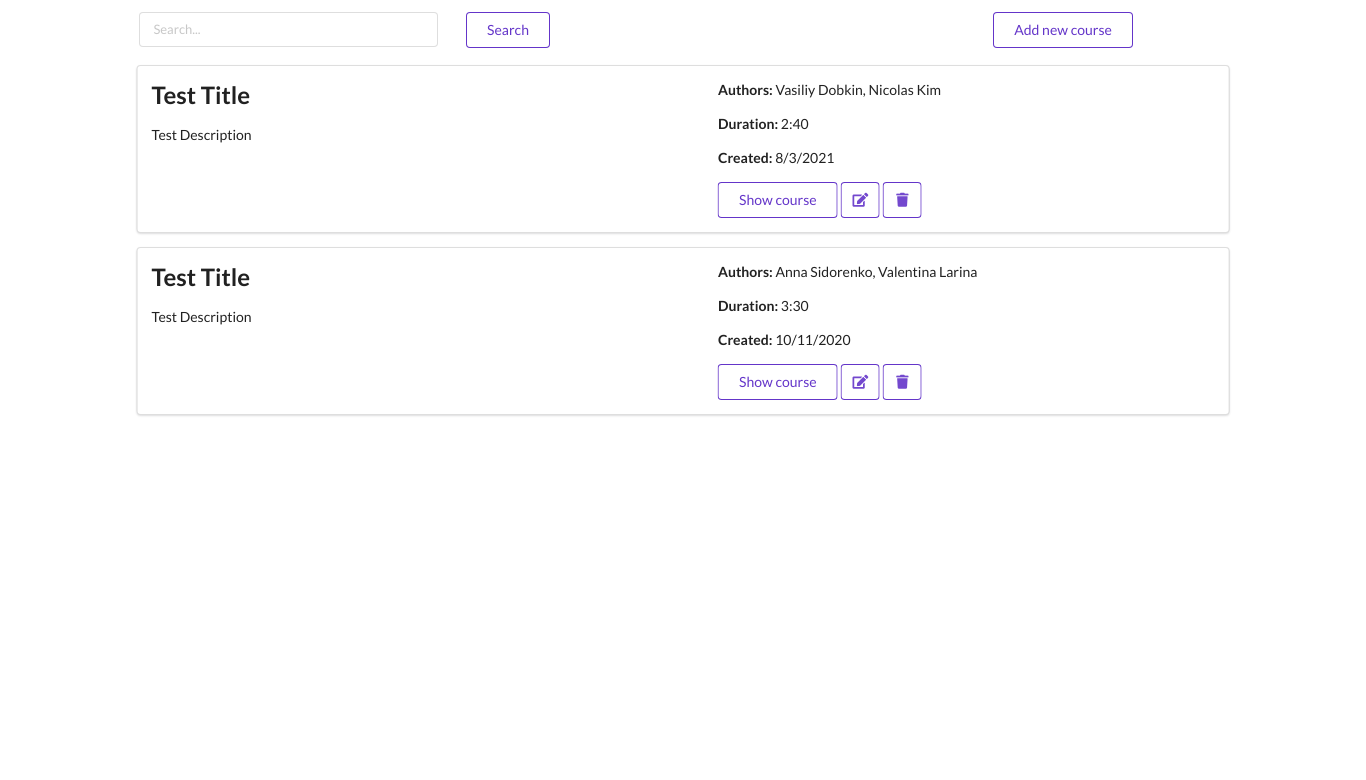
CourseForm should be showed after a click on a button "Add new course"
Step 1. Click the button "Add new course" → (1063, 30), box [993,12,1133,48]
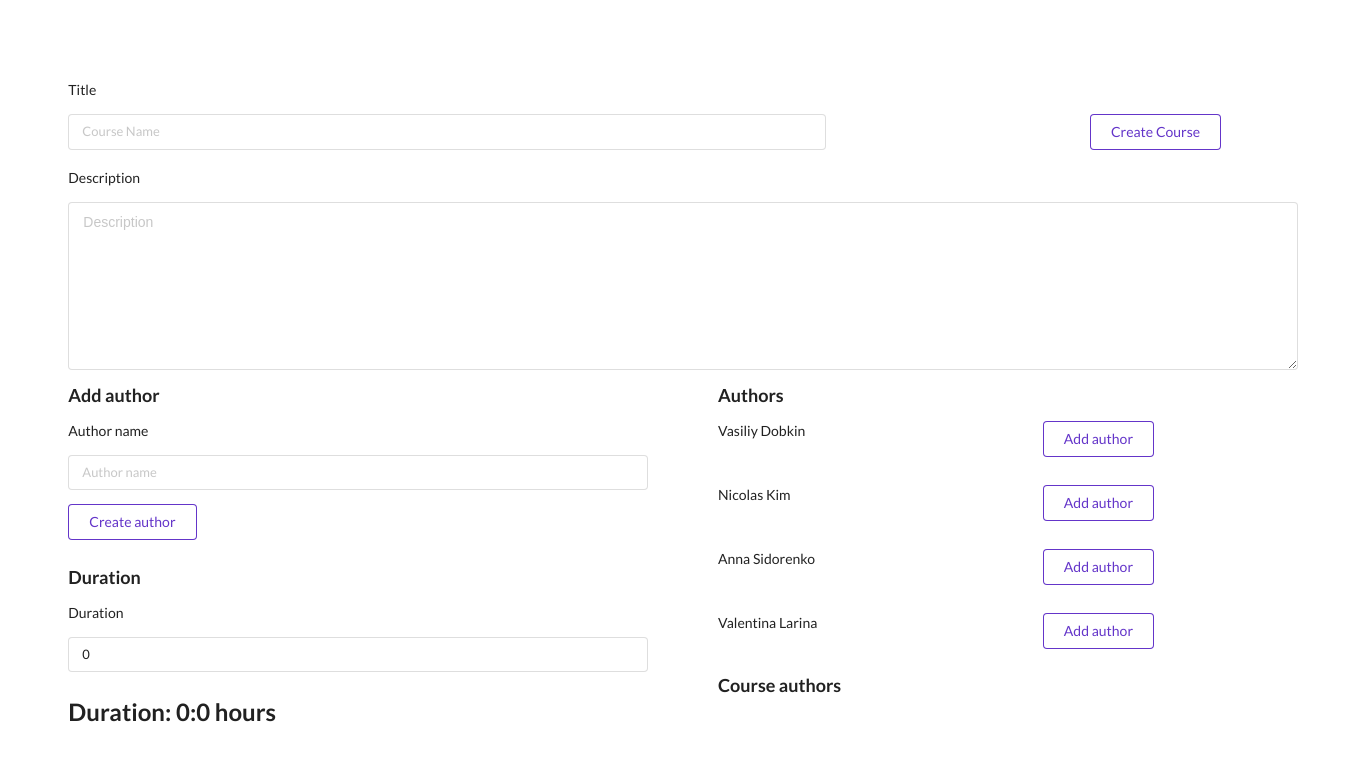
Result: the form with test id "createCourseForm" is shown
